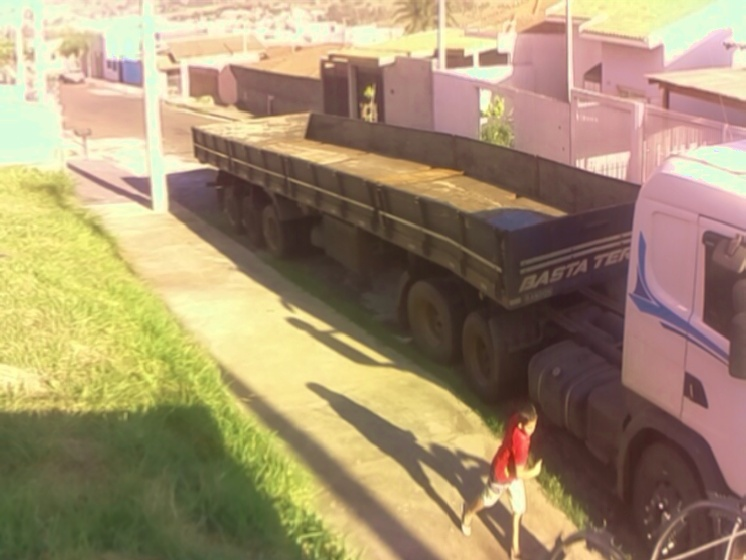person: (461, 401, 546, 560)
